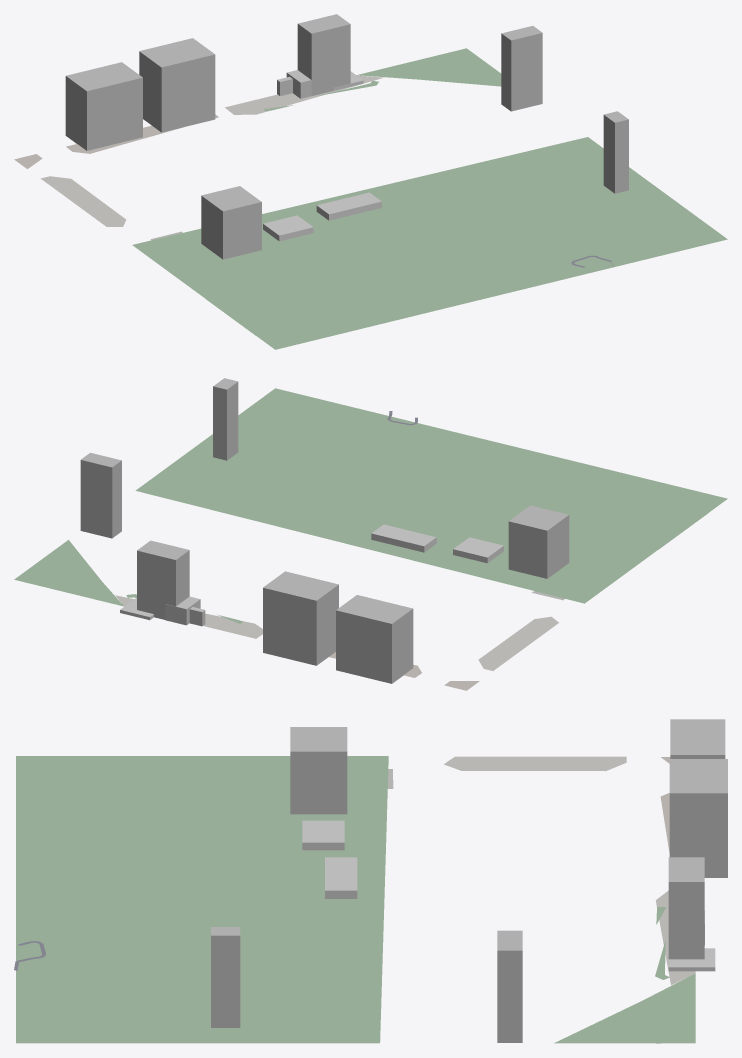
File: 119_79_mid.glb
3 views of the same model, one above another, from view 1: azimuth 30°, elevation 25°; view 2: azimuth 150°, elevation 25°; view 3: azimuth 270°, elevation 25° (orthographic). The views are drawn at different scales.
Bounding box in the file's own units: 500 × 76.12 × 525.
